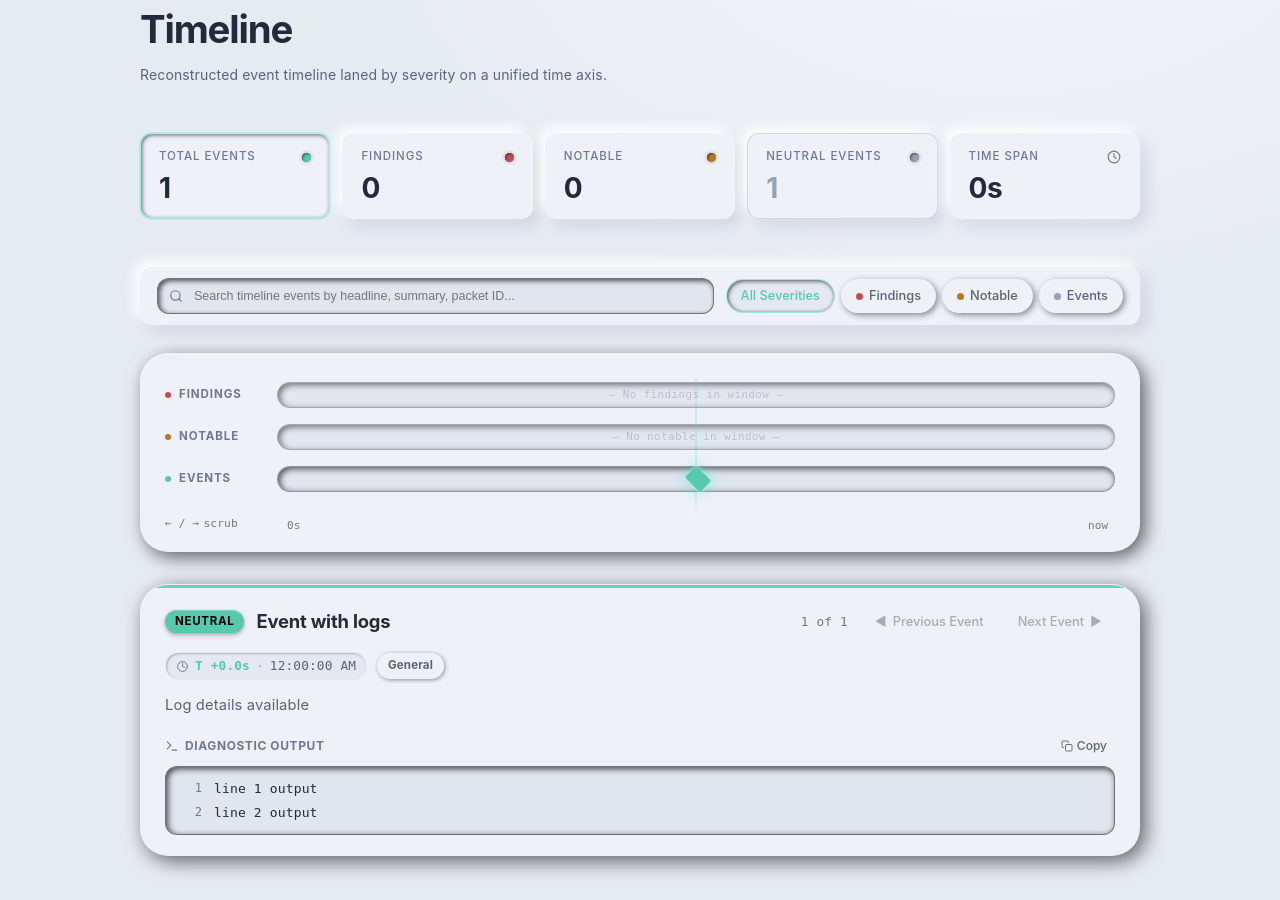
Test case: Timeline Screen & useTimelineController › handles copy diagnostic logs with visual feedback
This screenshot has width=1280, height=900.
What coordinates should you click on to do the following:
click the button with aria-label "Copy diagnostic logs"
I would click on:
 (1084, 746)
Its box is [1053, 734, 1115, 758].
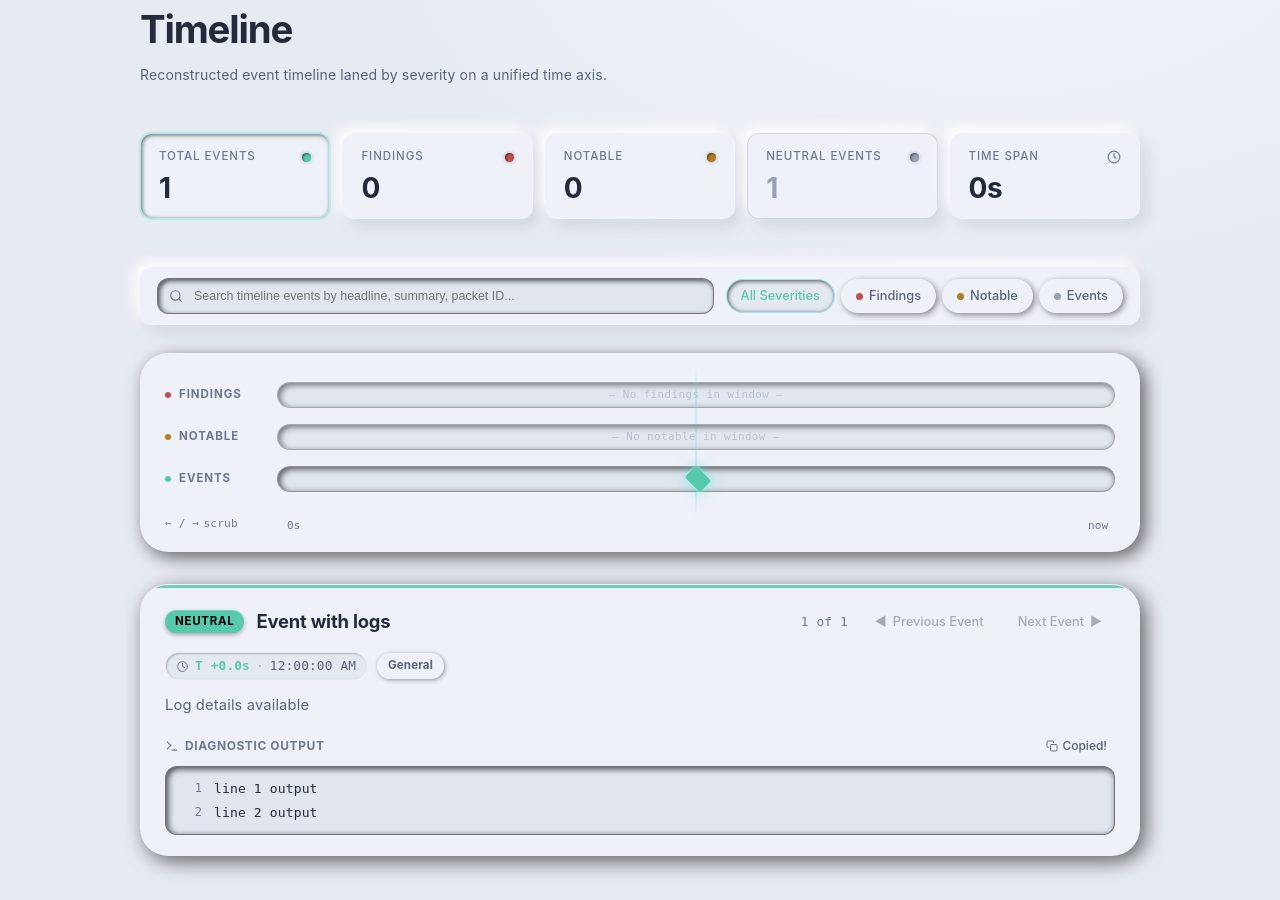
Expected: the text "Copied!" is shown, [1062, 737, 1107, 755]
